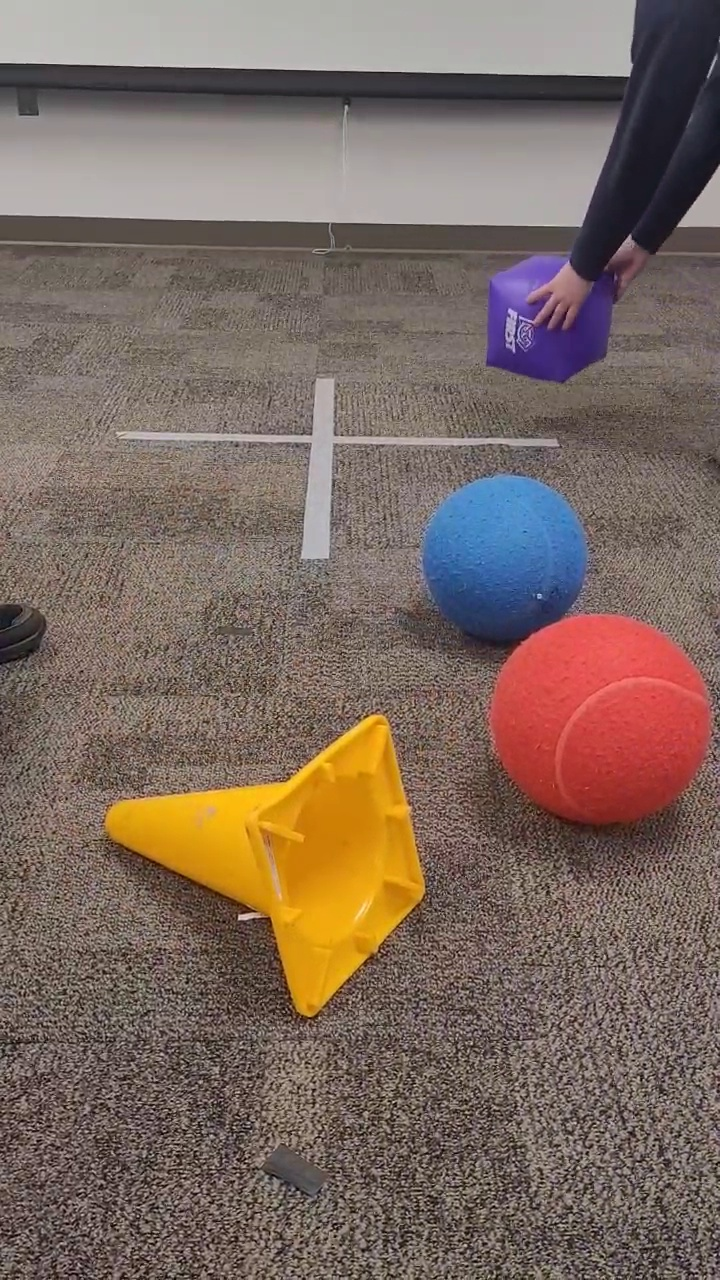ball: (484, 605, 714, 829), (420, 468, 589, 645)
cone: (100, 707, 430, 1023)
cube: (481, 248, 617, 384)
foot: (1, 594, 49, 668)
hand: (517, 263, 594, 341), (598, 228, 653, 293)
